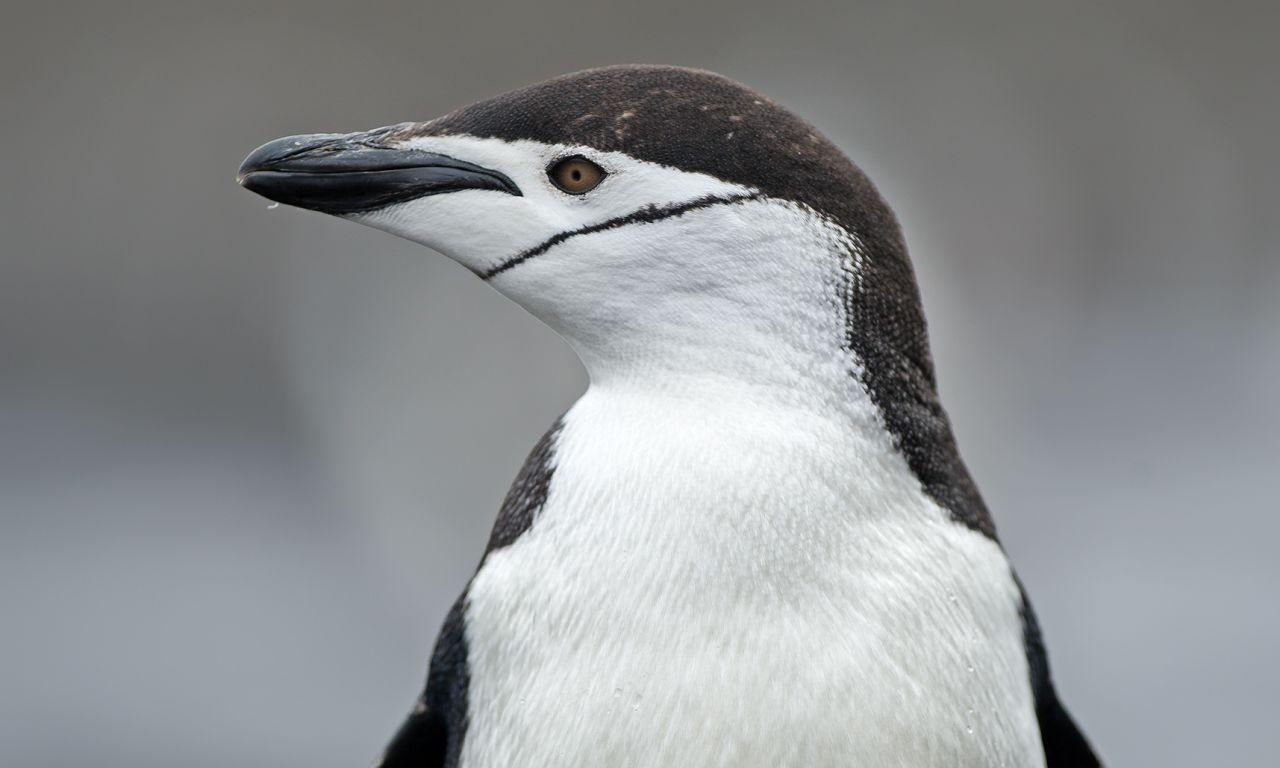Penguin: (238, 65, 1098, 765)
